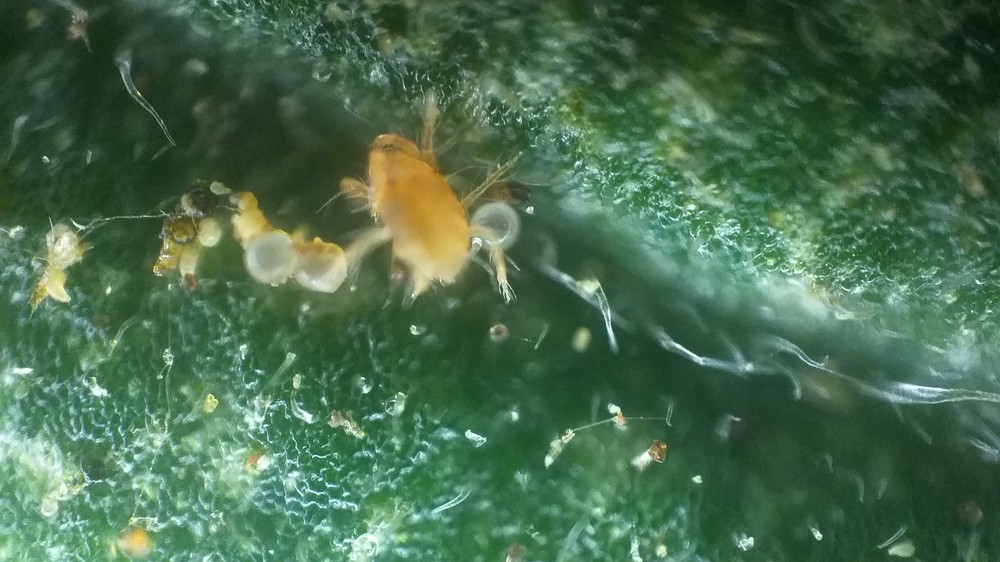Aracnido Rojo: (316, 86, 540, 329)
